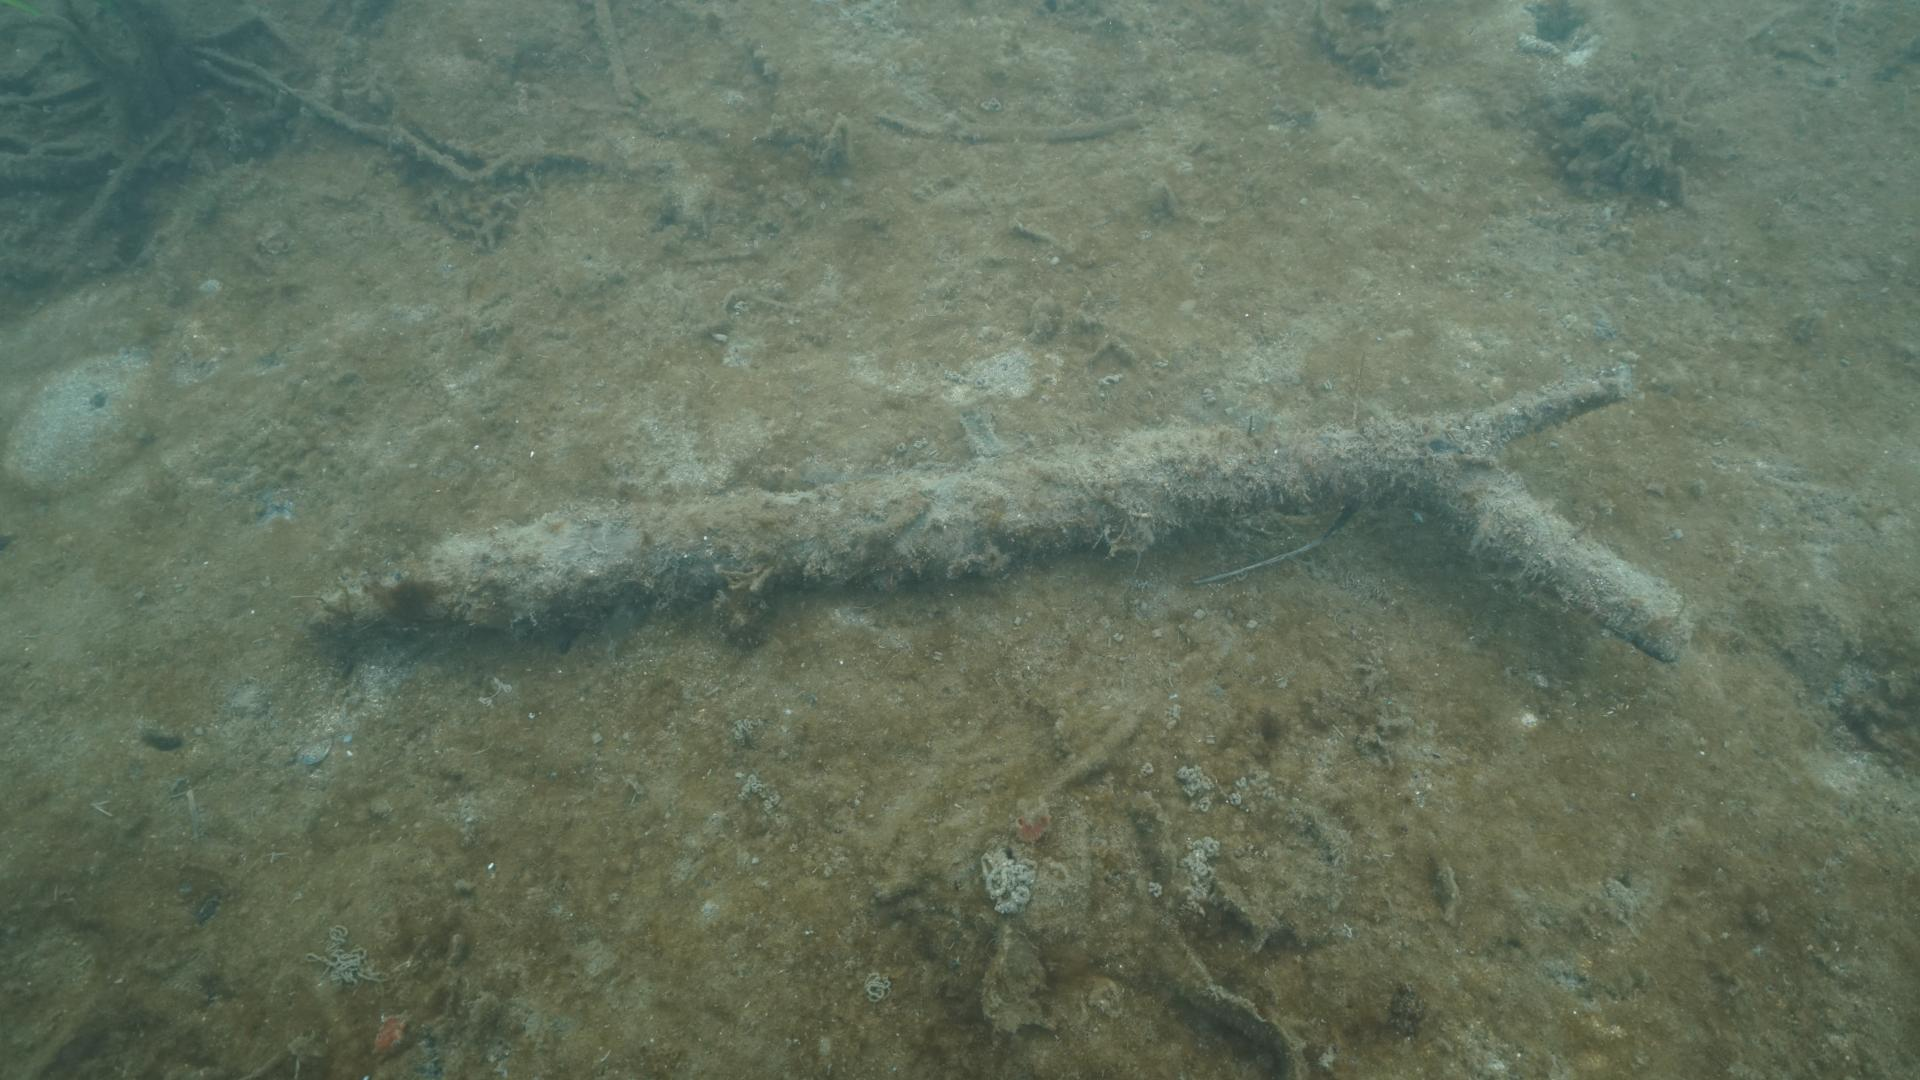wood: (323, 361, 1698, 665)
